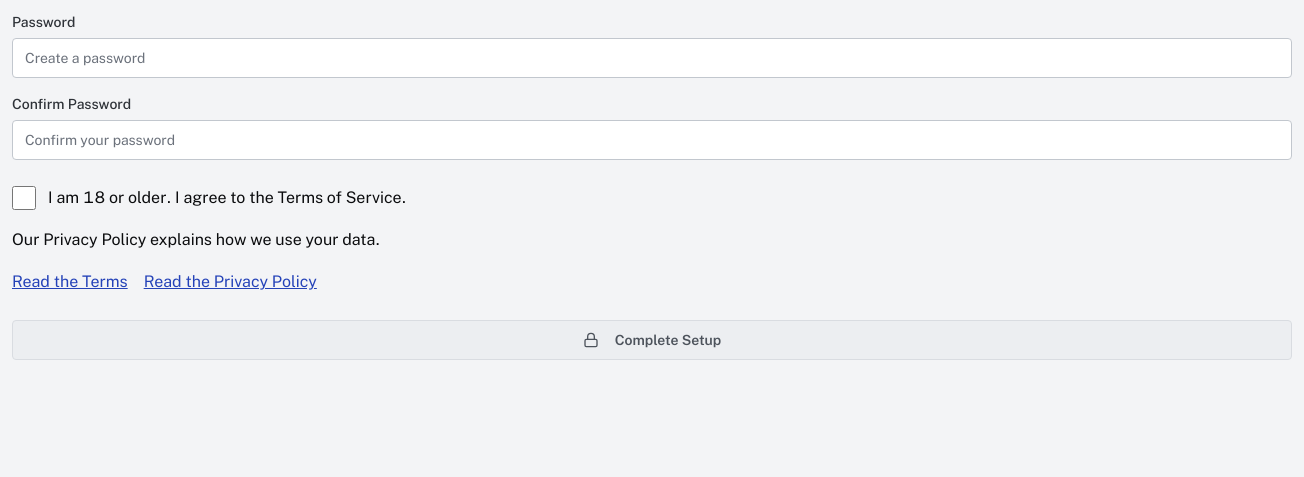
it: agreement forms and sheets › X2 complete-profile action box error marks and focuses the agreement box
The width and height of the screenshot is (1304, 477).
Type "Password123" into the password field labelled "Password" at (652, 58), box [12,38,1292,78]
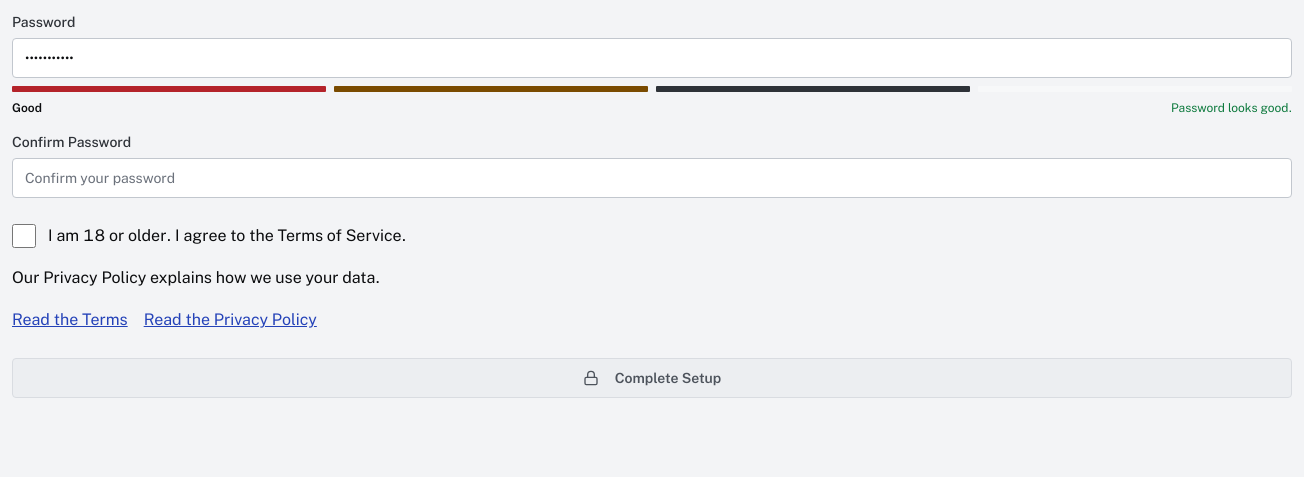
Type "Password123" into the password field labelled "Confirm Password" at (652, 178), box [12,158,1292,198]
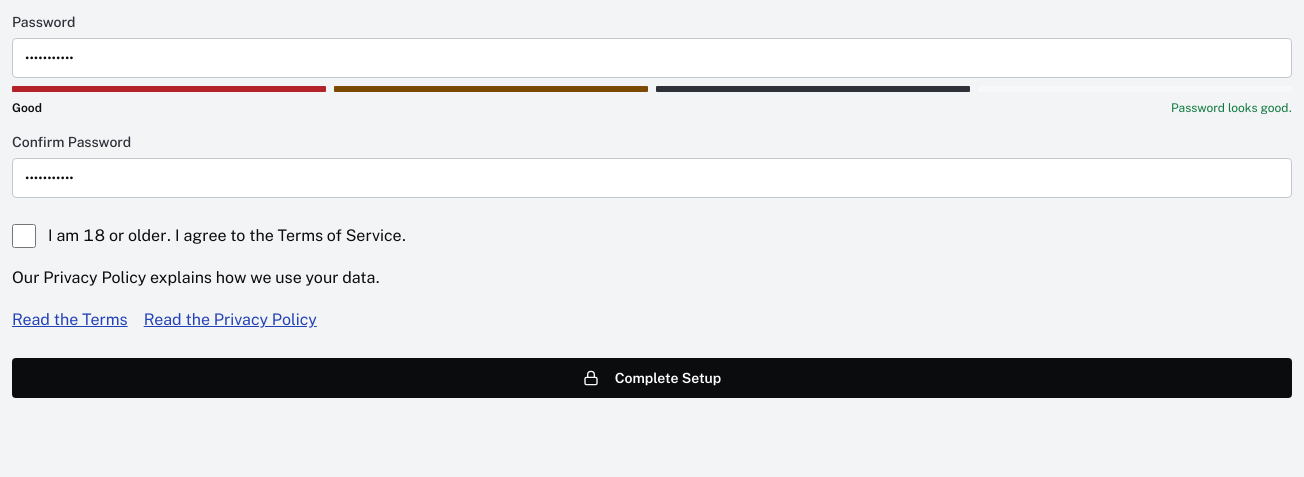
Click the checkbox labelled "I am 18 or older. I agree to the Terms of Service." at (24, 236), box [12,224,36,248]
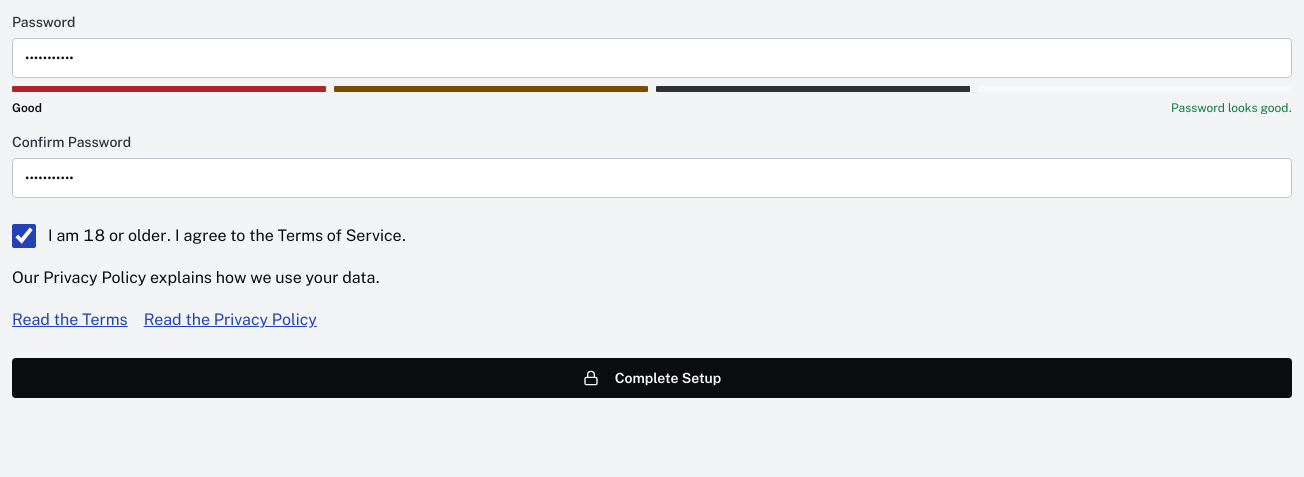
Submit the form named "Complete Setup"
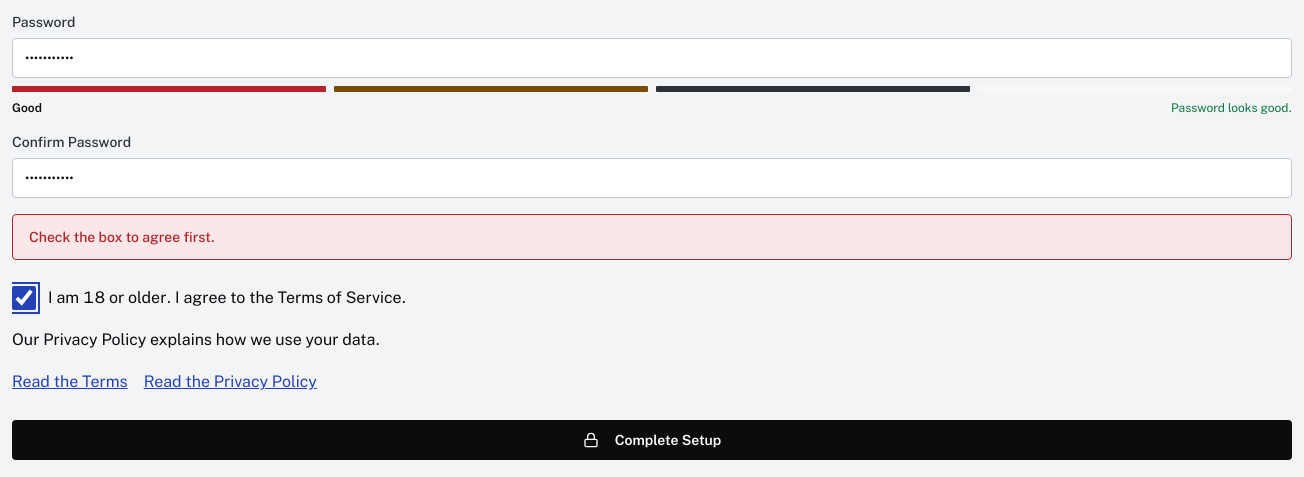
Expected: the message reads "Check the box to agree first.", [29,229,215,245]
